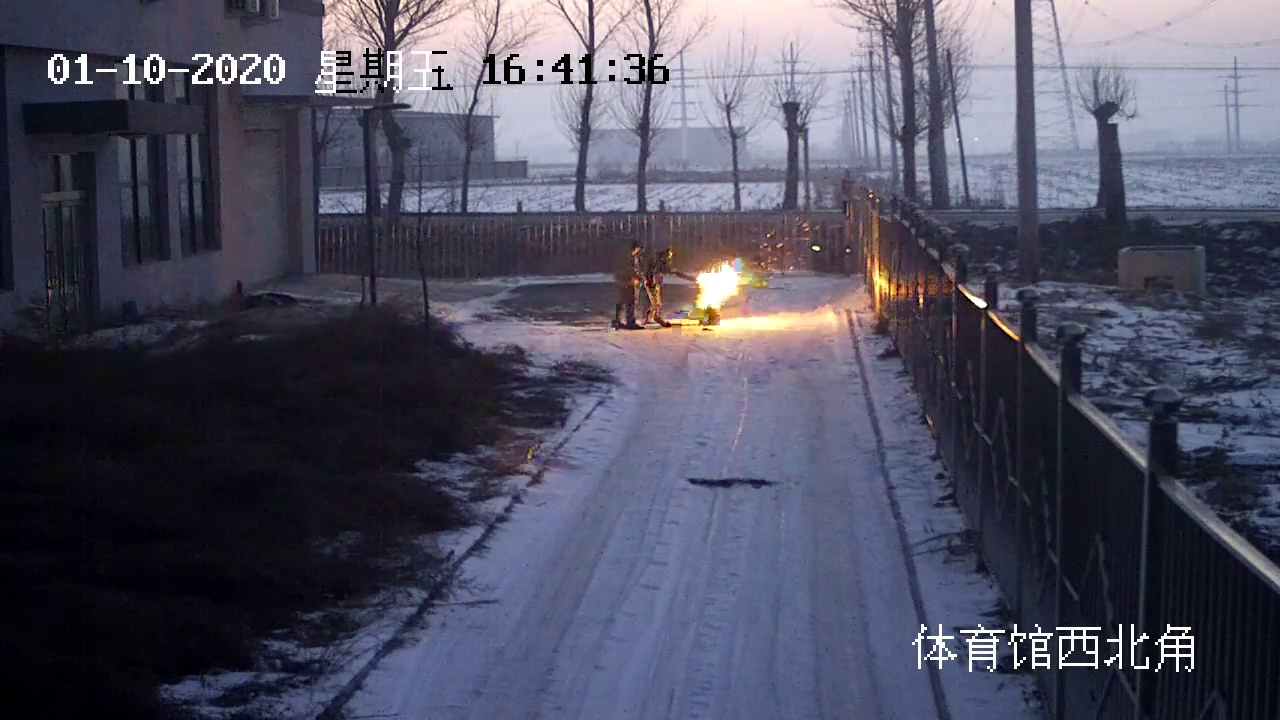fire: (695, 262, 739, 310)
